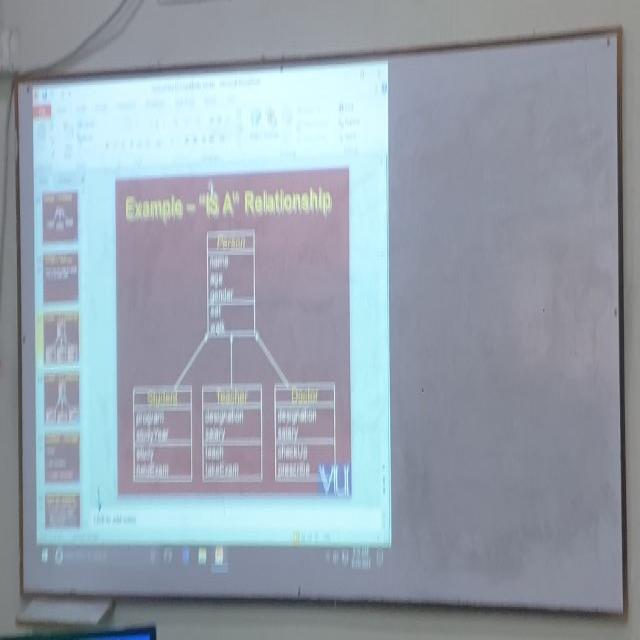Slide: (31, 52, 392, 578)
White-board: (16, 34, 625, 618)
